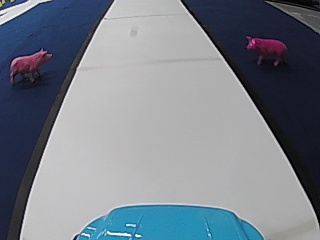pig: (8, 46, 51, 84), (243, 33, 288, 66)
